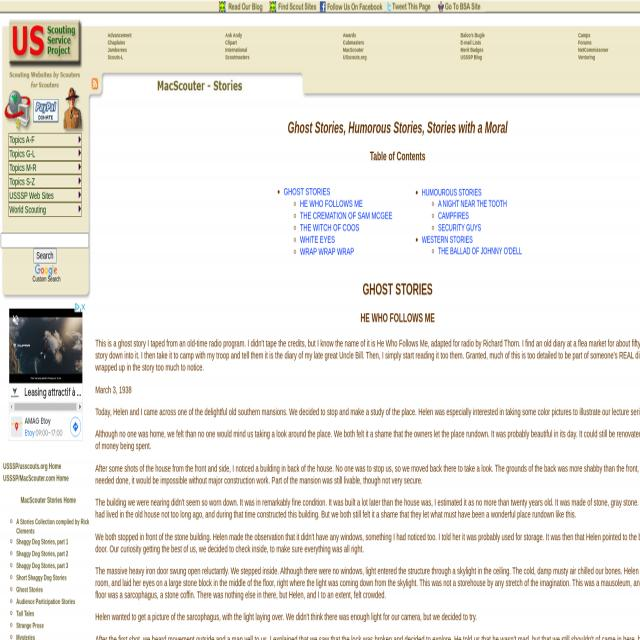button: (8, 21, 78, 62), (3, 88, 31, 130), (8, 133, 82, 147), (8, 189, 82, 203), (9, 147, 81, 161), (9, 161, 81, 175), (8, 175, 82, 188), (8, 203, 82, 216), (62, 88, 82, 130), (320, 1, 384, 12), (34, 99, 58, 122), (269, 1, 318, 12), (386, 1, 435, 12), (219, 1, 267, 12), (437, 1, 485, 12), (33, 248, 57, 263), (35, 263, 57, 278), (70, 418, 81, 436), (91, 76, 98, 91), (80, 302, 86, 312), (75, 302, 80, 312)
field: (1, 233, 89, 249)
